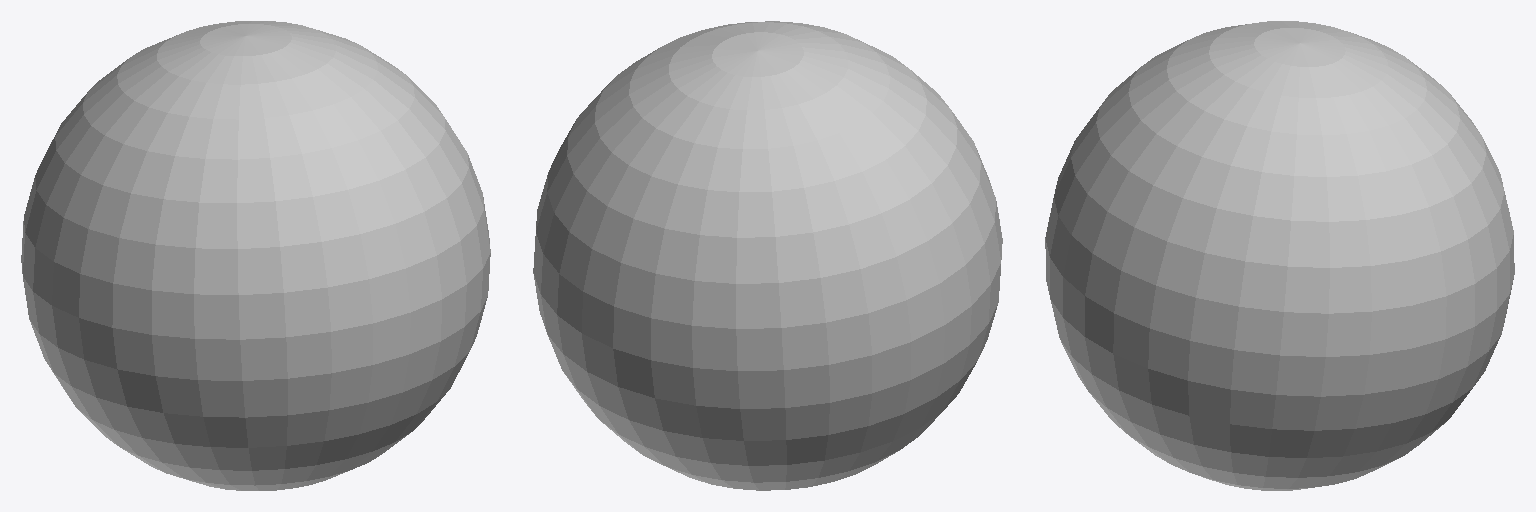
The model's file is sBumper1.obj.
The picture shows the model from 3 angles: view 1: azimuth 30°, elevation 25°; view 2: azimuth 150°, elevation 25°; view 3: azimuth 270°, elevation 25°; orthographic projection.
Parts seen in each view (by area): view 1: Sphere_Sphere.001; view 2: Sphere_Sphere.001; view 3: Sphere_Sphere.001.
Boxes of the visible parts, <box> form: Sphere_Sphere.001: <box>21,21,490,490</box>; Sphere_Sphere.001: <box>533,21,1002,490</box>; Sphere_Sphere.001: <box>1045,21,1514,490</box>.
Size of the model in its own units: 2.8 by 2.79 by 2.79.